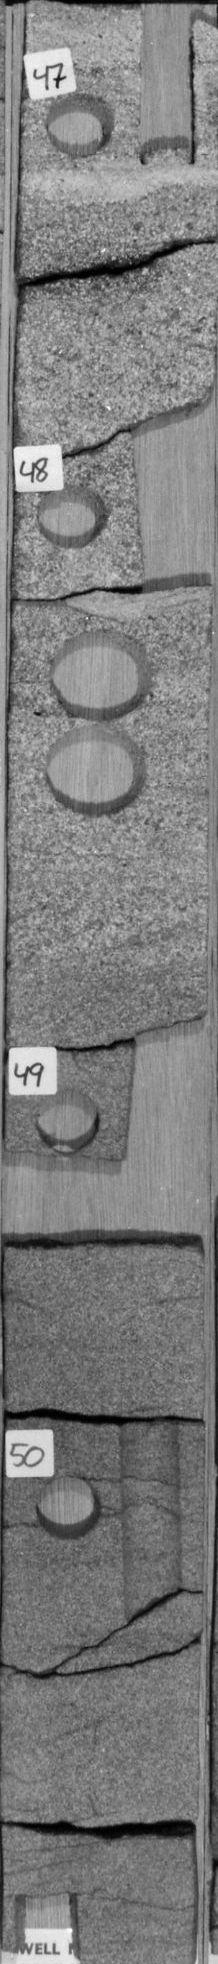hplug: (40, 84, 120, 162), (26, 1468, 104, 1544), (33, 482, 117, 551), (34, 1083, 106, 1159)
scal: (43, 621, 163, 723), (40, 725, 155, 823)
vplug: (128, 395, 214, 604), (108, 1415, 190, 1627), (114, 1007, 200, 1166), (128, 4, 205, 178), (13, 1876, 84, 1964)
